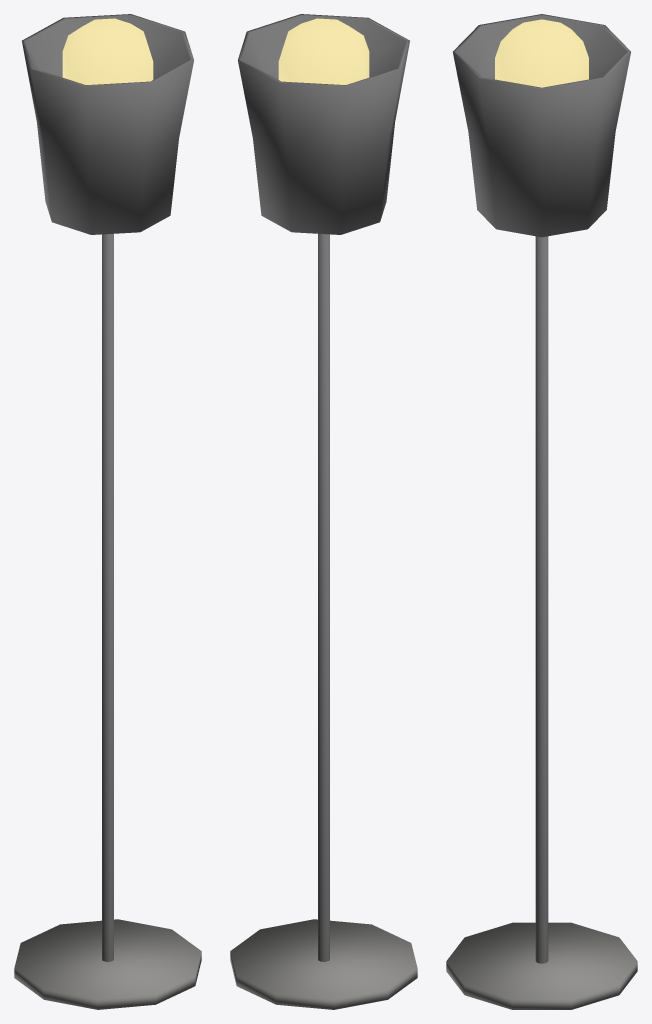
The model's file is Light_Floor1.glb.
3 views of the same model, side by side, from view 1: azimuth 30°, elevation 25°; view 2: azimuth 150°, elevation 25°; view 3: azimuth 270°, elevation 25° (orthographic).
Visible parts, largest first — view 1: Light_Floor1; view 2: Light_Floor1; view 3: Light_Floor1.
Part boxes in pixels (<box>): Light_Floor1: <box>14,14,201,1009</box>; Light_Floor1: <box>230,14,417,1009</box>; Light_Floor1: <box>446,14,637,1009</box>.
Bounding box in the file's own units: 0.2809 × 1.6 × 0.2953.
